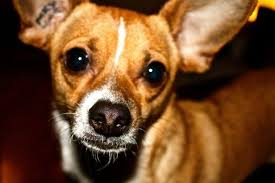chihuahua: (11, 3, 273, 181)
